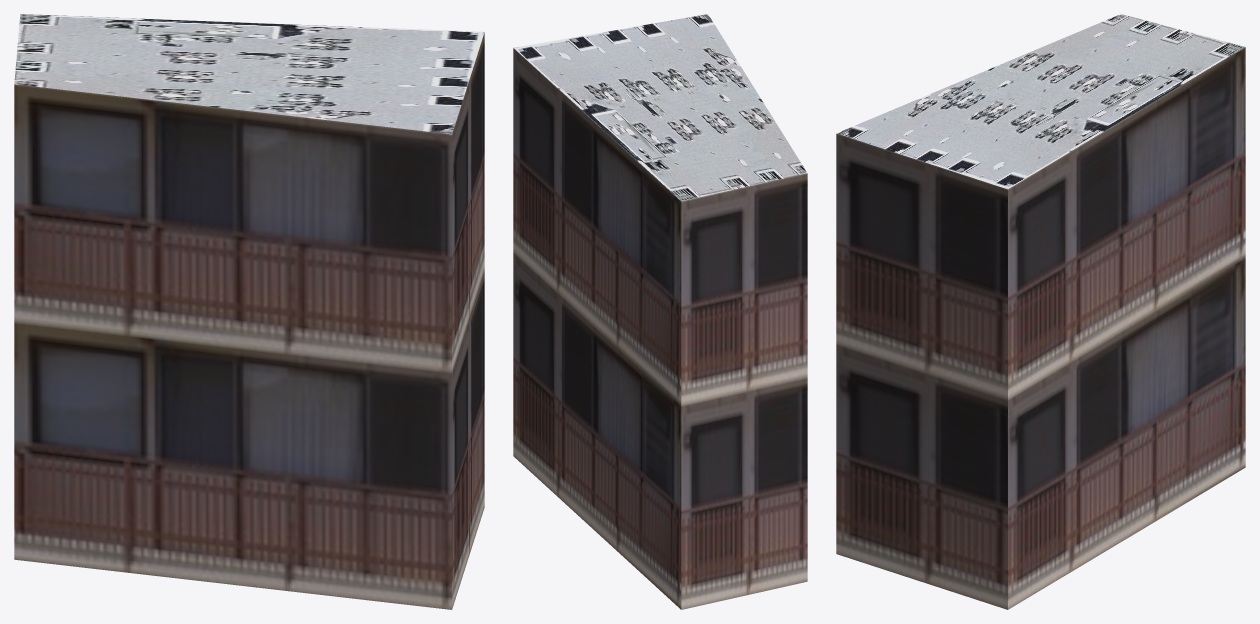
Rendered from ResTex__4694.fbx.
3 views of the same model, side by side, from view 1: azimuth 30°, elevation 25°; view 2: azimuth 150°, elevation 25°; view 3: azimuth 270°, elevation 25° (orthographic). The views are drawn at different scales.
Parts seen in each view (by area): view 1: CityEngineMaterial_6_m, CityEngineMaterial_4_m; view 2: CityEngineMaterial_6_m, CityEngineMaterial_4_m; view 3: CityEngineMaterial_6_m, CityEngineMaterial_4_m.
Part boxes in pixels (<box>): CityEngineMaterial_6_m: <box>14,32,484,609</box>; CityEngineMaterial_4_m: <box>14,14,484,134</box>; CityEngineMaterial_6_m: <box>513,48,807,609</box>; CityEngineMaterial_4_m: <box>513,14,807,201</box>; CityEngineMaterial_6_m: <box>836,47,1245,609</box>; CityEngineMaterial_4_m: <box>836,14,1244,189</box>.
Size of the model in its own units: 5.37 by 6 by 5.29.
2 materials, 2 textured.
